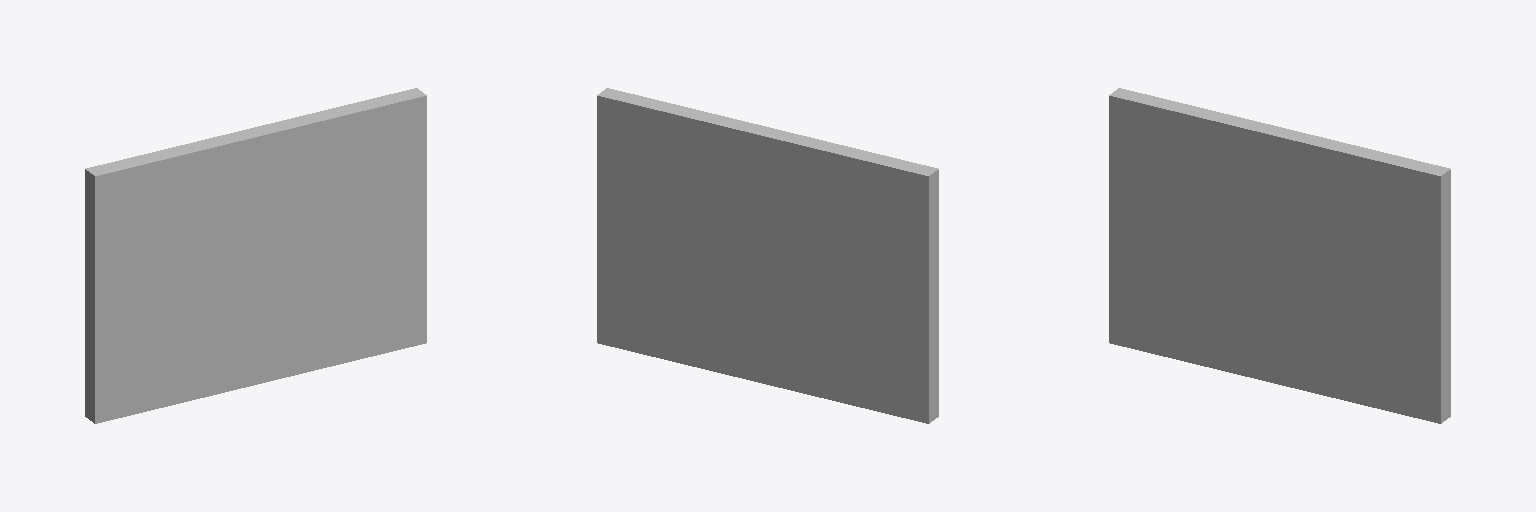
File: trappe.obj
The picture shows the model from 3 angles: view 1: azimuth 30°, elevation 25°; view 2: azimuth 150°, elevation 25°; view 3: azimuth 330°, elevation 25°; orthographic projection.
Parts seen in each view (by area): view 1: Cube.017_Cube.021; view 2: Cube.017_Cube.021; view 3: Cube.017_Cube.021.
Boxes of the visible parts, box(x1,y1,x2,y2) form: Cube.017_Cube.021: box(85, 88, 426, 423); Cube.017_Cube.021: box(597, 88, 938, 423); Cube.017_Cube.021: box(1109, 88, 1450, 423).
Size of the model in its own units: 2.5 by 1.79 by 0.136.